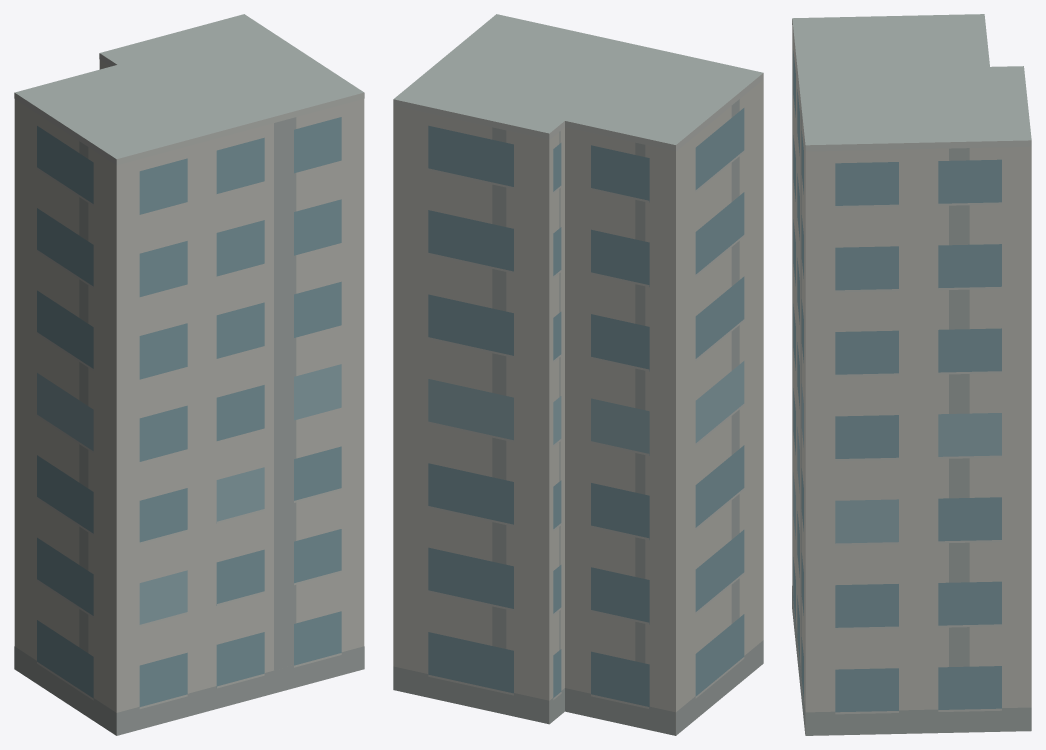
Rendered from survey-upis-32628453.glb.
The picture shows the model from 3 angles, left to right: view 1: azimuth 30°, elevation 25°; view 2: azimuth 150°, elevation 25°; view 3: azimuth 270°, elevation 25°; orthographic projection. The views are drawn at different scales.
Visible parts, largest first — view 1: survey-upis-32628453.tmp; view 2: survey-upis-32628453.tmp; view 3: survey-upis-32628453.tmp.
Boxes of the visible parts, x1,y1,x2,y2 form: survey-upis-32628453.tmp: (14, 14, 364, 735); survey-upis-32628453.tmp: (393, 14, 763, 735); survey-upis-32628453.tmp: (792, 14, 1031, 735).
Bounding box in the file's own units: 10.78 × 22.6 × 8.31.
